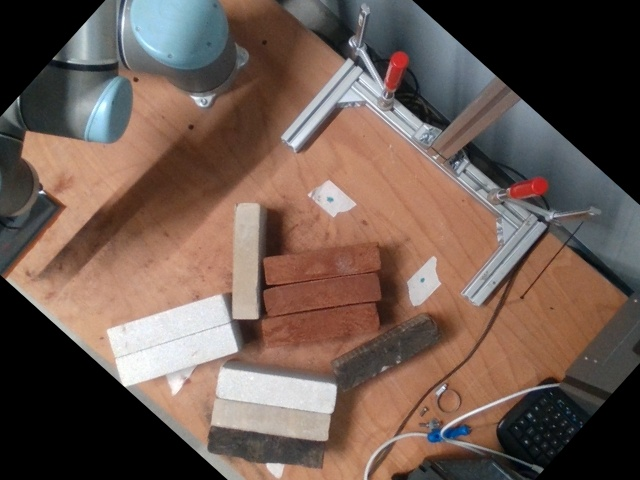brick-side: (334, 317, 441, 391), (106, 295, 228, 357), (115, 326, 235, 385), (217, 370, 333, 413), (211, 400, 328, 442), (265, 274, 380, 315), (208, 428, 323, 468), (265, 244, 378, 284), (262, 304, 376, 342), (233, 206, 257, 319)
